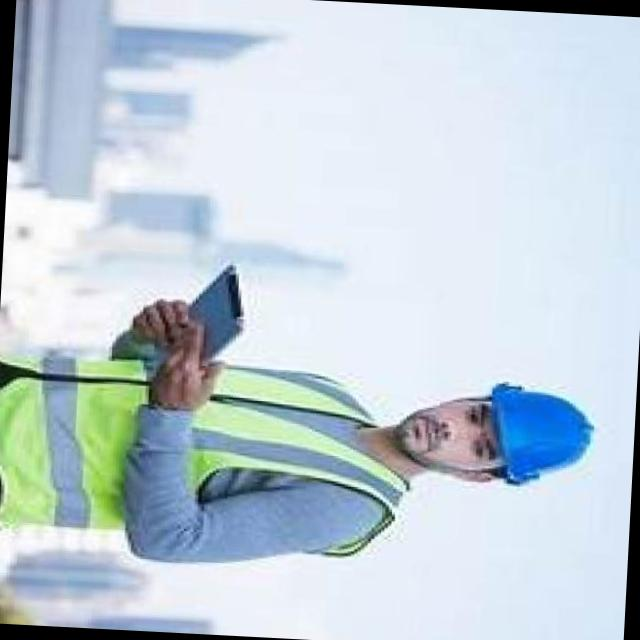not-gloved: (150, 328, 224, 416), (133, 286, 199, 345)
